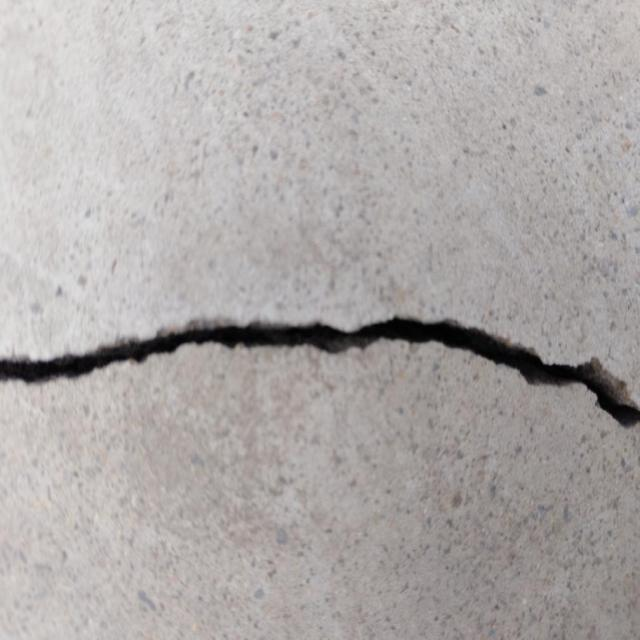horizontal crack: (0, 313, 639, 430)
